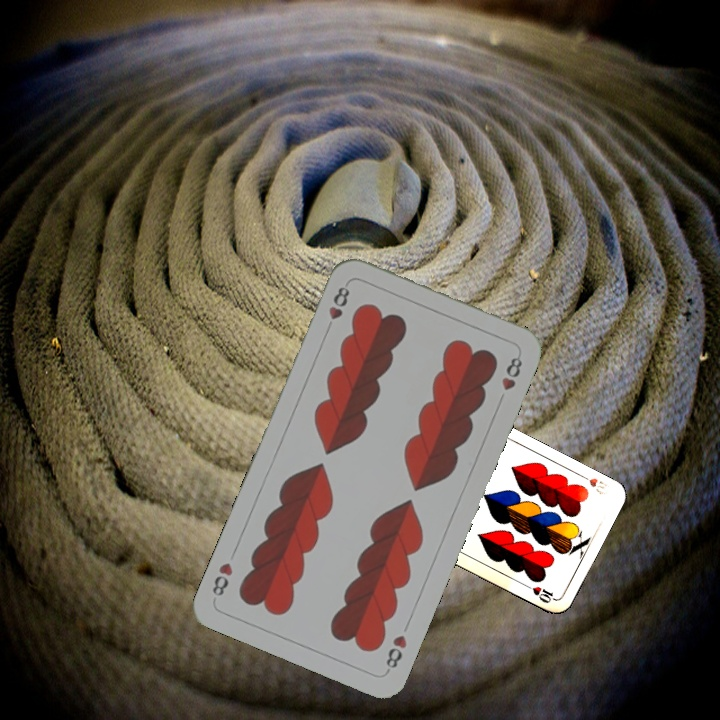H10: (575, 469, 612, 498)
H8: (322, 279, 352, 335), (381, 631, 410, 675)
